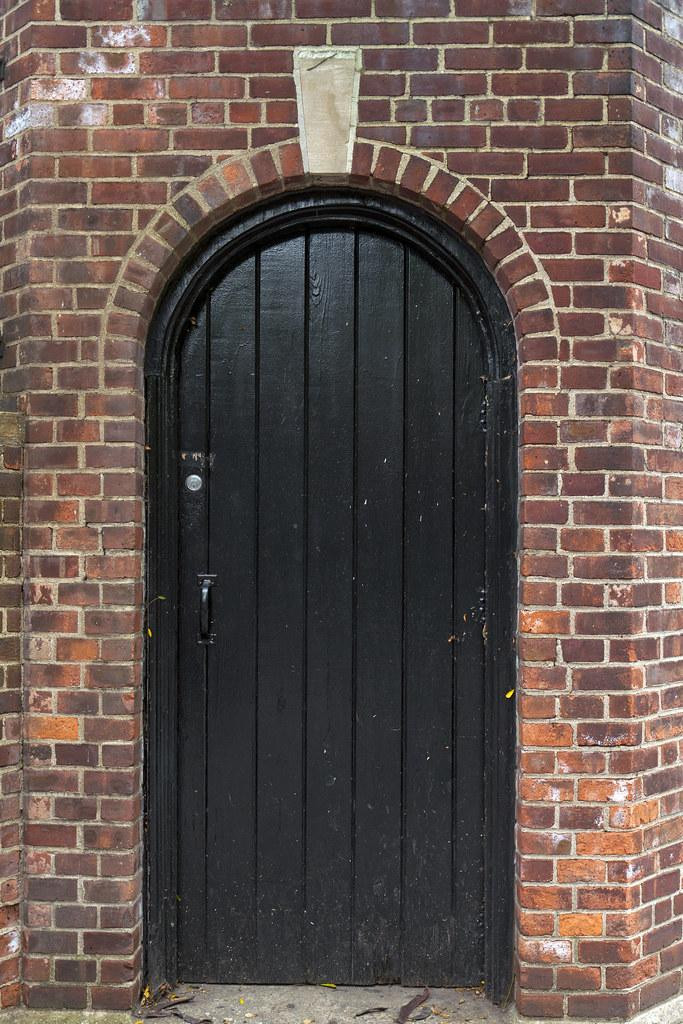door: (146, 195, 518, 996)
